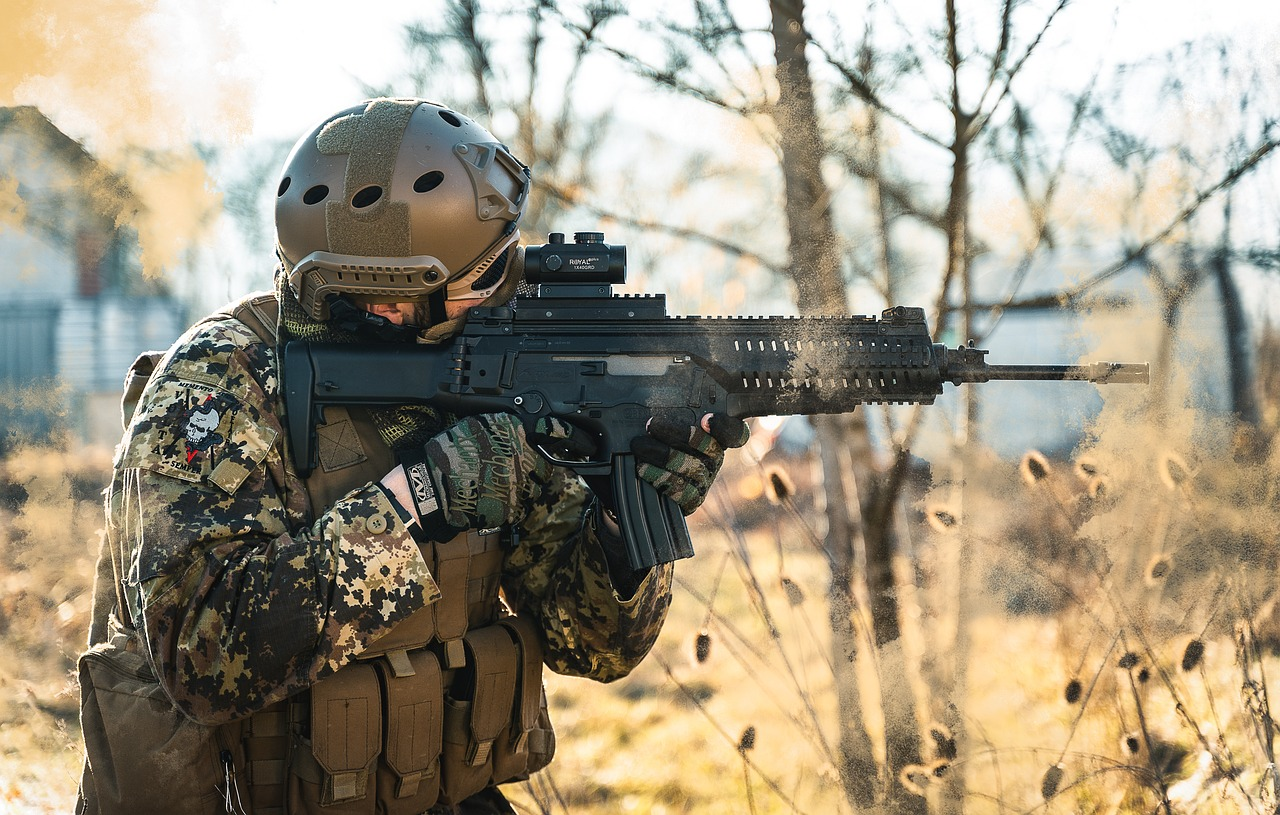gun: (272, 227, 1154, 577)
